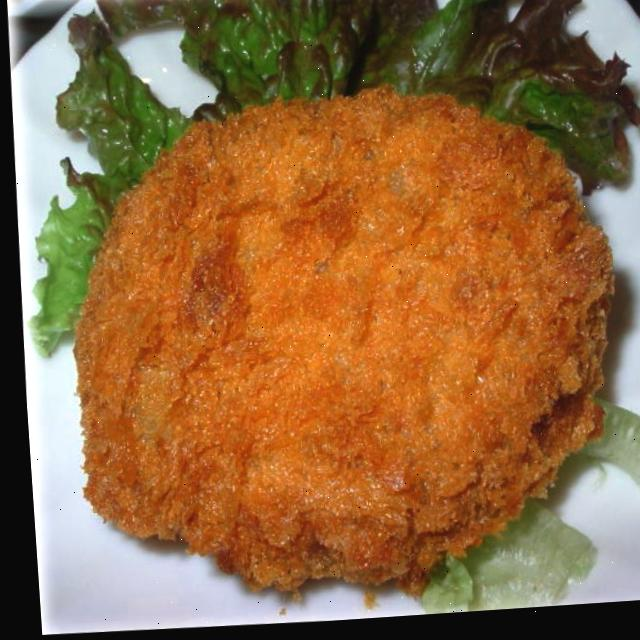炸货点心: (40, 57, 636, 617)
